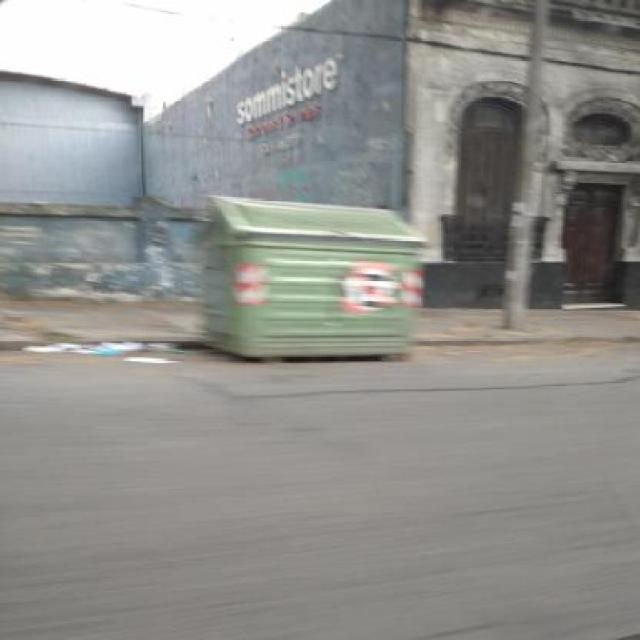garbage: (35, 332, 198, 368)
